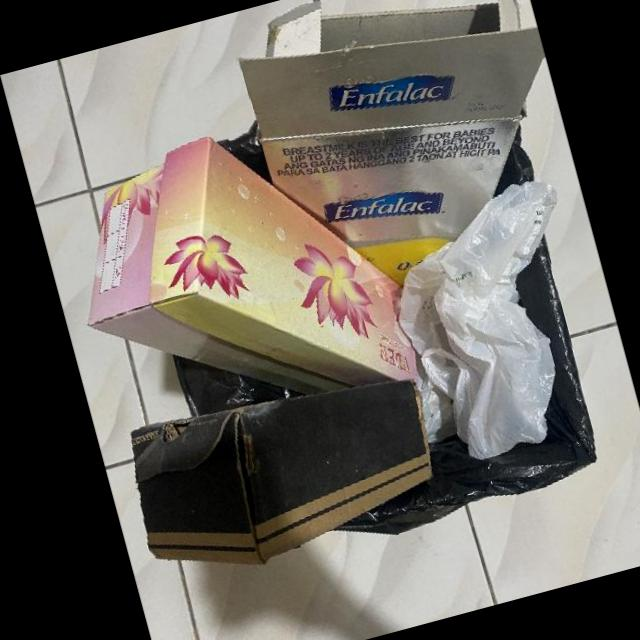carton: (237, 0, 544, 284), (87, 137, 414, 393), (129, 380, 429, 563)
